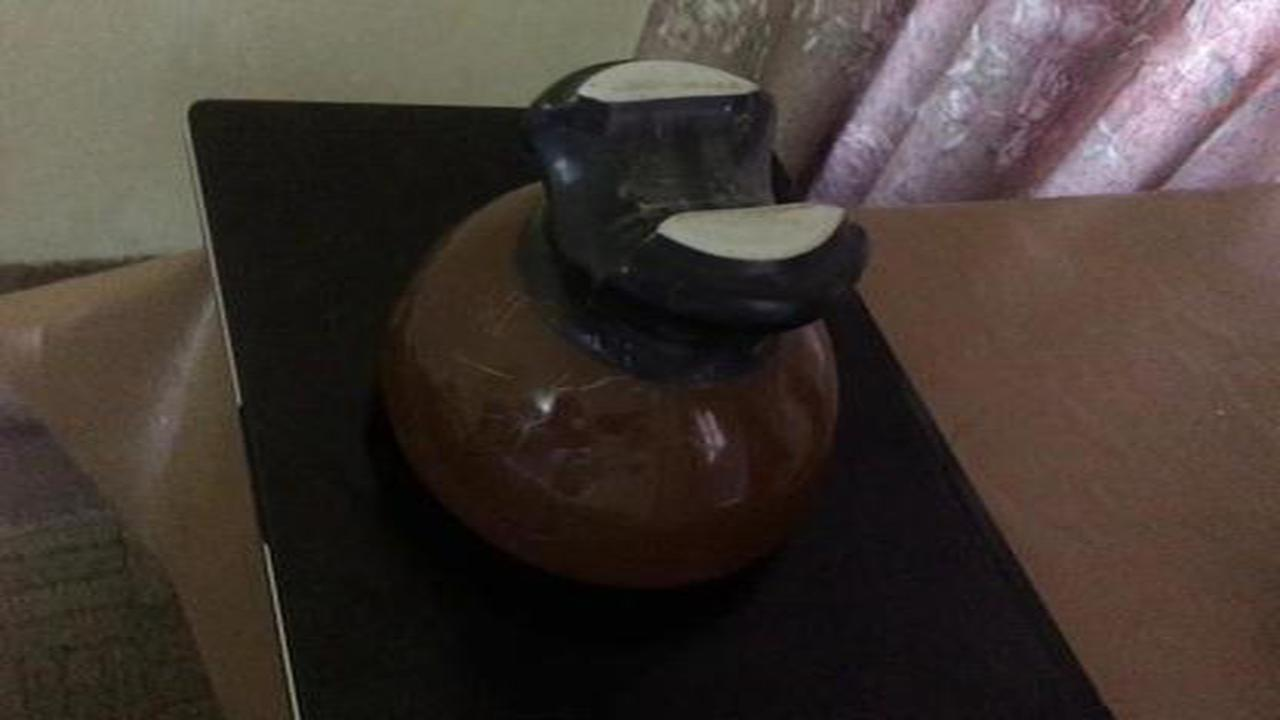insulator_pin: (354, 39, 902, 618)
